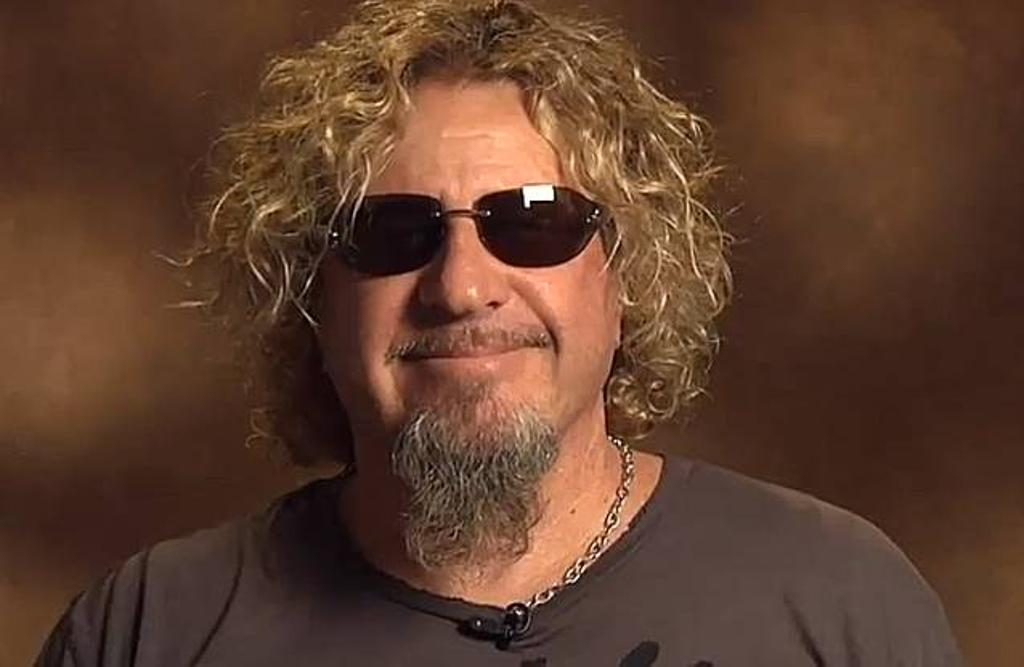face: (320, 80, 620, 450)
